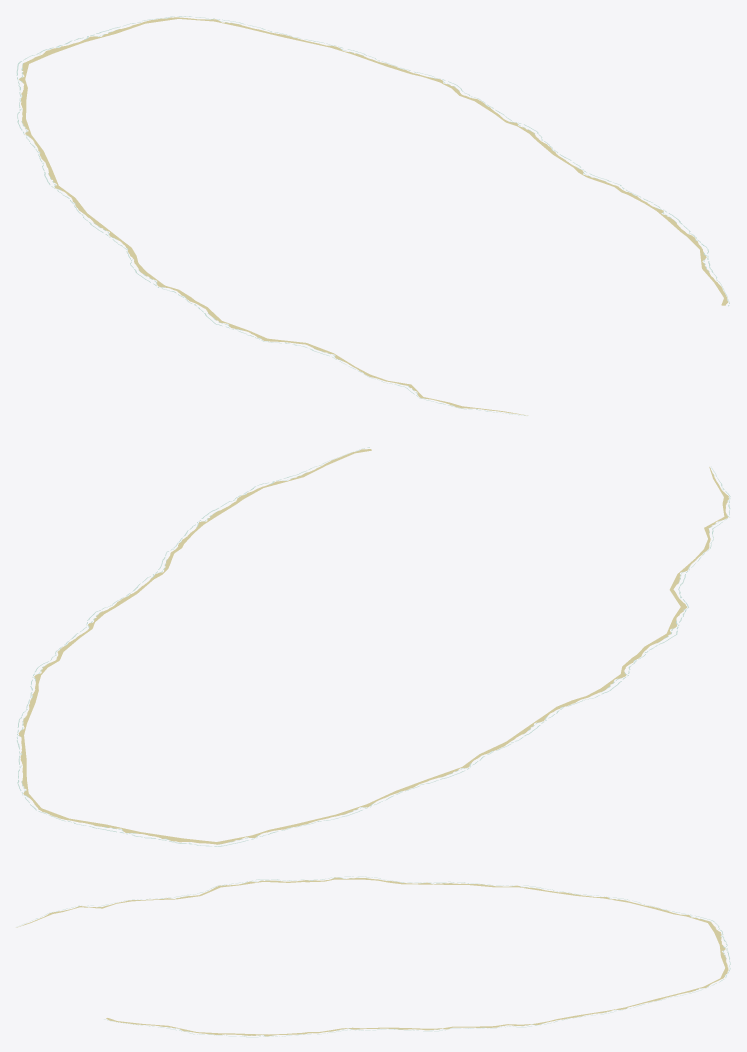
File: Mesh_Home_BH_Sand_02.fbx
The picture shows the model from 3 angles, top to bottom: view 1: azimuth 30°, elevation 25°; view 2: azimuth 150°, elevation 25°; view 3: azimuth 270°, elevation 25°; orthographic projection. The views are drawn at different scales.
Parts seen in each view (by area): view 1: Mesh_Home_BH_Sand_02; view 2: Mesh_Home_BH_Sand_02; view 3: Mesh_Home_BH_Sand_02.
Boxes of the visible parts, left/top/right/bottom form: Mesh_Home_BH_Sand_02: left=16, top=16, right=729, bottom=415; Mesh_Home_BH_Sand_02: left=16, top=447, right=730, bottom=846; Mesh_Home_BH_Sand_02: left=16, top=876, right=730, bottom=1037.
Size of the model in its own units: 4033 by 3.66e-07 by 7576.
Materials: 1 (1 with a texture image).
